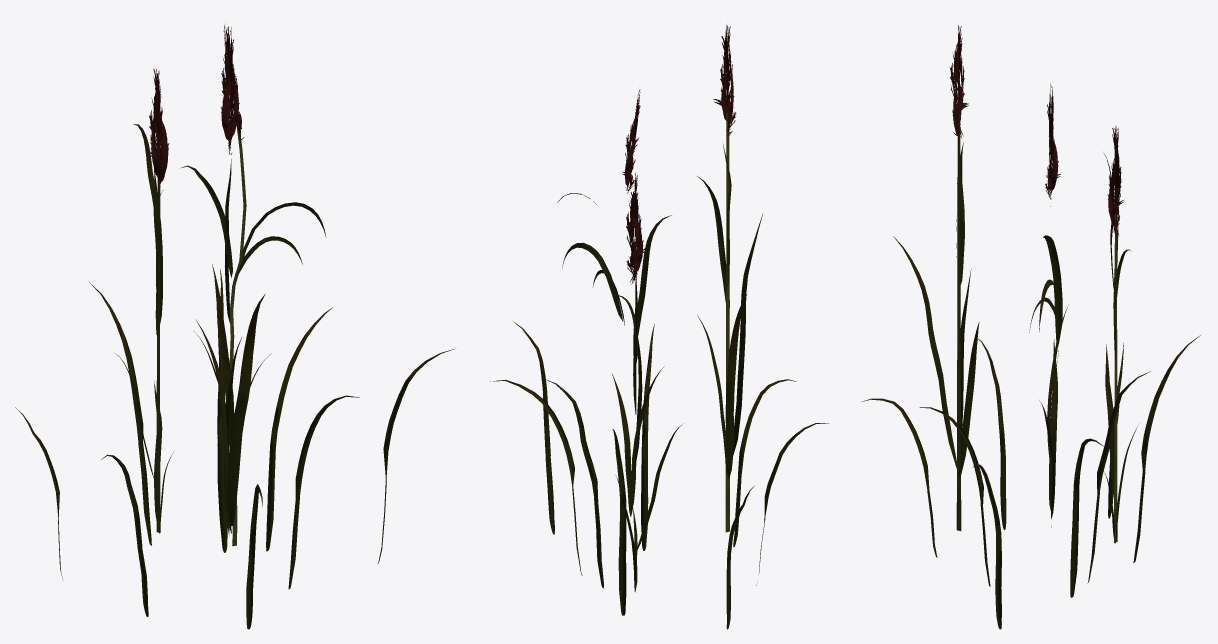
3 renders of one model, left to right at view 1: azimuth 30°, elevation 25°; view 2: azimuth 150°, elevation 25°; view 3: azimuth 270°, elevation 25°, orthographic. The views are drawn at different scales.
Visible parts, largest first — view 1: SM_DR_GrassLongSeeded_02_LOD0; view 2: SM_DR_GrassLongSeeded_02_LOD0; view 3: SM_DR_GrassLongSeeded_02_LOD0.
Boxes of the visible parts, box(x1,y1,x2,y2) form: SM_DR_GrassLongSeeded_02_LOD0: box(15, 25, 455, 629); SM_DR_GrassLongSeeded_02_LOD0: box(490, 24, 828, 629); SM_DR_GrassLongSeeded_02_LOD0: box(861, 25, 1200, 629).
Bounding box in the file's own units: 0.8527 × 1.38 × 0.7932.
1 material, 1 textured.
